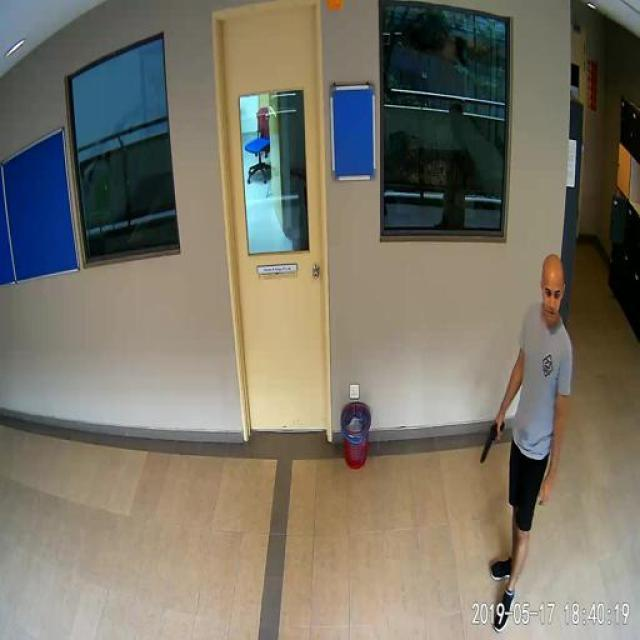Gun: (476, 409, 512, 472)
